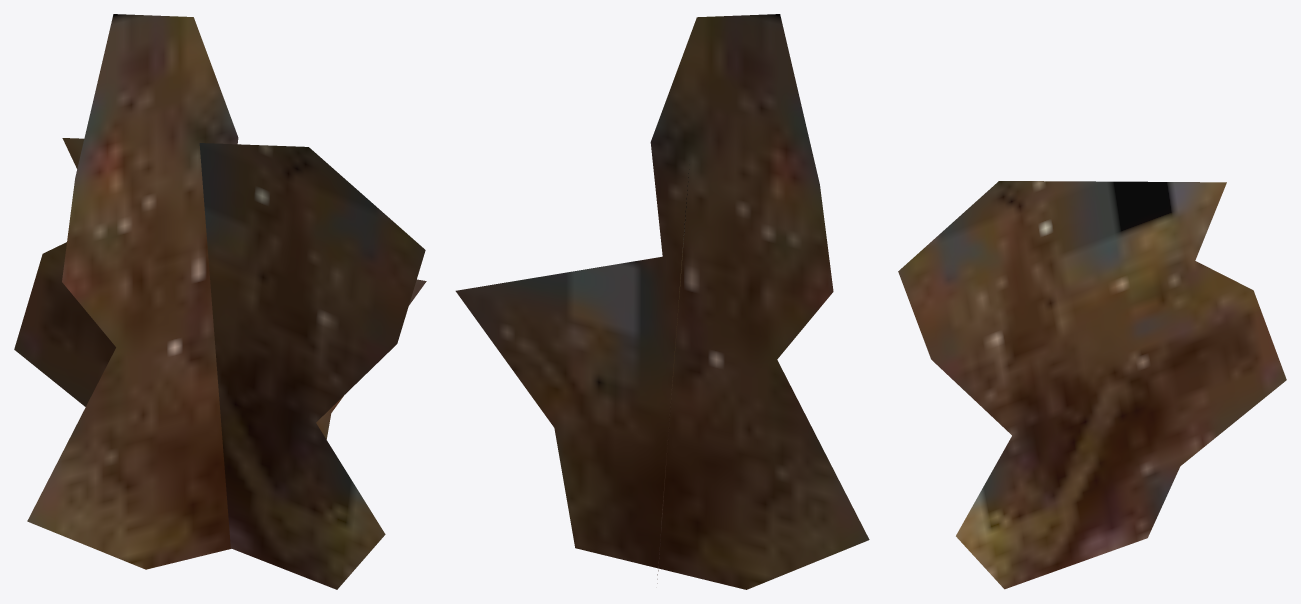
File: Seaweed_F12-transformed.glb
The picture shows the model from 3 angles, left to right: view 1: azimuth 30°, elevation 25°; view 2: azimuth 150°, elevation 25°; view 3: azimuth 270°, elevation 25°; orthographic projection. The views are drawn at different scales.
Visible parts, largest first — view 1: Seaweed_F12; view 2: Seaweed_F12; view 3: Seaweed_F12.
Boxes of the visible parts, box(x1,y1,x2,y2) form: Seaweed_F12: box(14, 14, 426, 589); Seaweed_F12: box(455, 14, 869, 589); Seaweed_F12: box(898, 181, 1286, 589).
Size of the model in its own units: 0.1208 by 0.1667 by 0.1166.
1 material, 1 textured.
